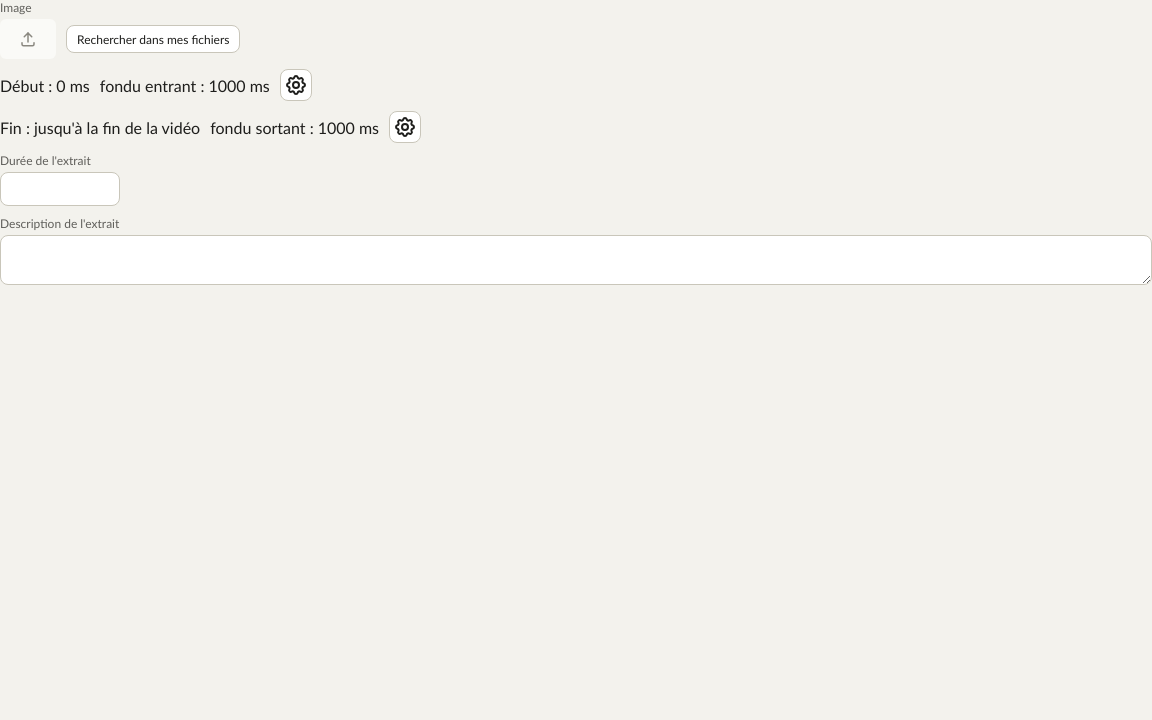
Test: DubbingVideoStep component › opens the start offset popin when its gear button is clicked
What coordinates should you click on to do the following:
click the button named "Configurer le début de l'extrait"
I would click on:
 (296, 85)
Its box is [280,69,312,101].
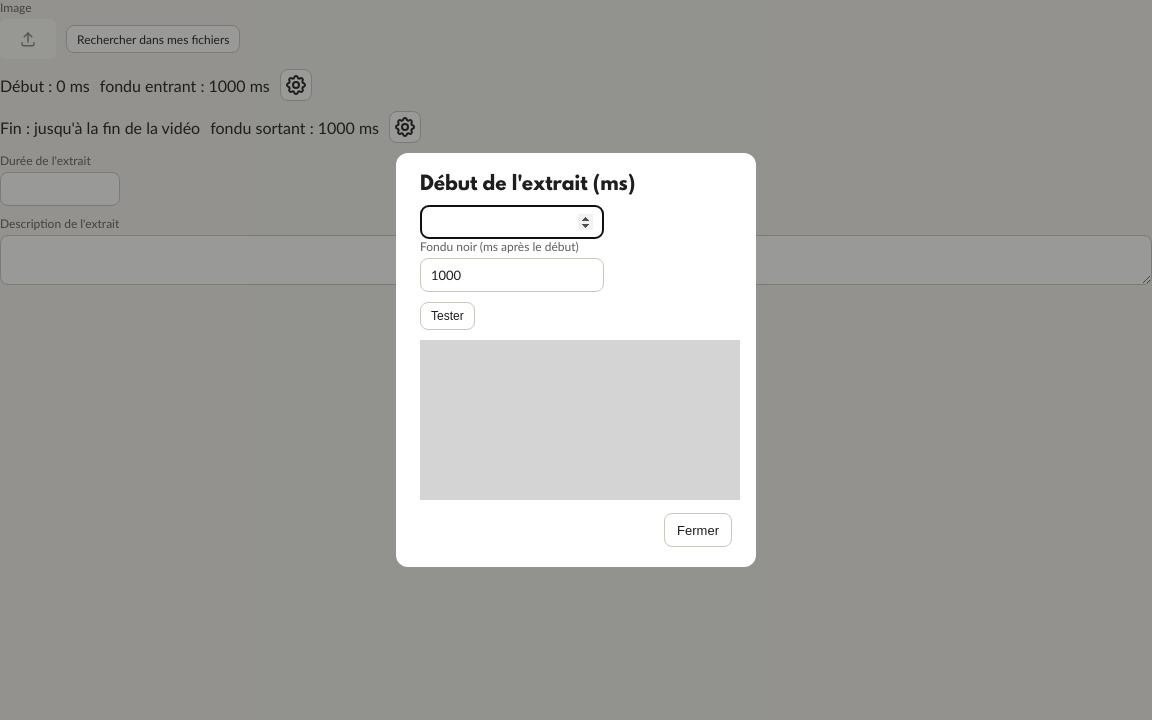
Expected: the dialog is shown, [396,153,756,567]
Expected: the number field named "startOffsetMs" is shown, [420,205,604,239]
